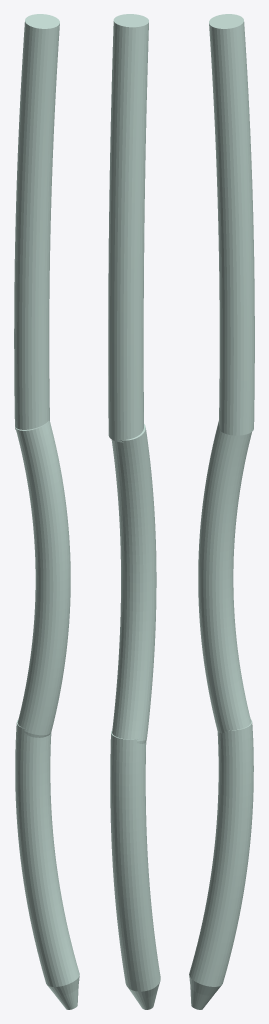
Rendered from poop.glb.
3 renders of one model, left to right at view 1: azimuth 90°, elevation 25°; view 2: azimuth 150°, elevation 25°; view 3: azimuth 270°, elevation 25°, orthographic.
Parts seen in each view (by area): view 1: head, center, tail; view 2: head, center, tail; view 3: head, center, tail.
Part boxes in pixels (box(x1,y1,x2,y2)): head: box(14, 14, 59, 429); center: box(15, 421, 70, 737); tail: box(15, 720, 79, 1009); head: box(108, 14, 148, 442); center: box(111, 424, 156, 743); tail: box(110, 730, 160, 1009); head: box(209, 14, 254, 435); center: box(198, 421, 251, 733); tail: box(189, 719, 253, 1009).
Bounding box in the file's own units: 0.068 × 1.98 × 0.1193.
